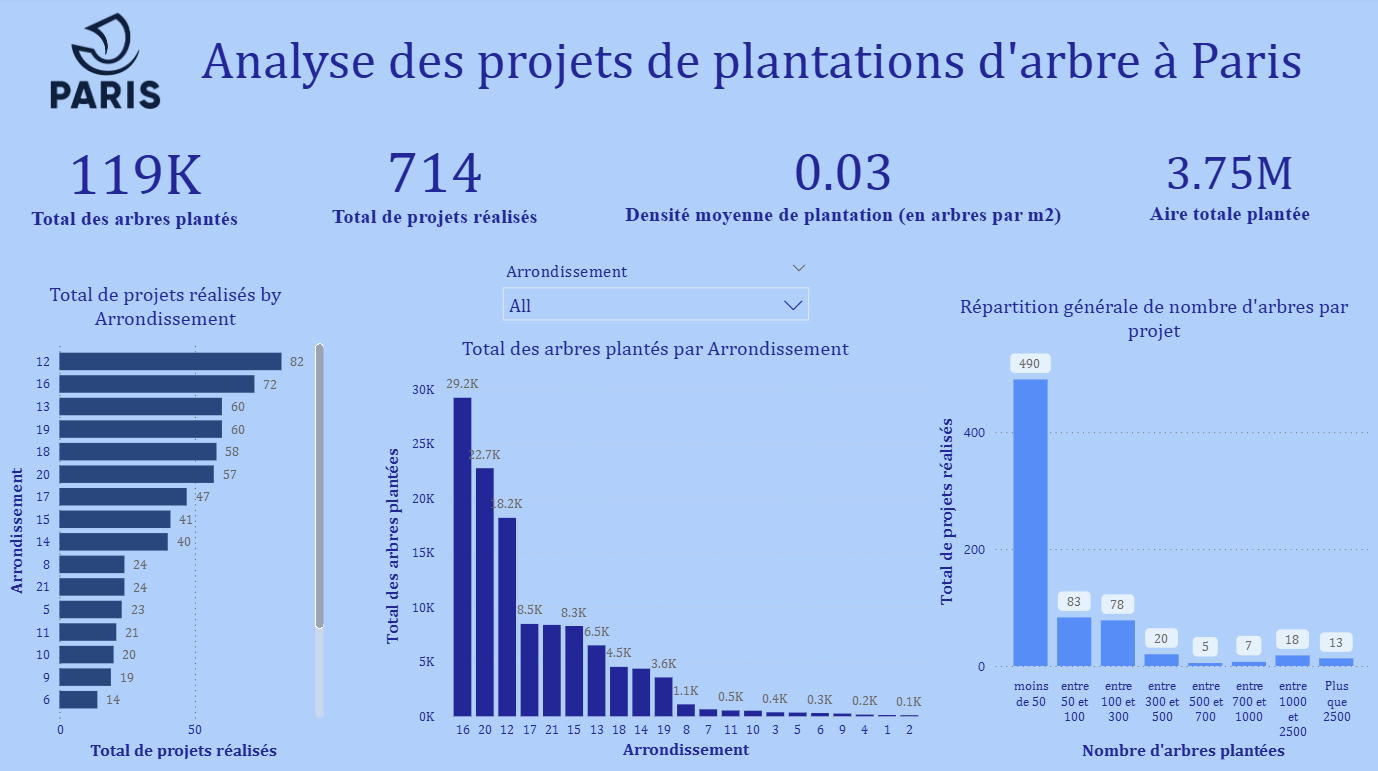

The page's visual inventory and layout, read from the dashboard file:
{"tool":"powerbi","page":{"name":"Page 1","canvas":[1280,720],"ordinal":0},"visuals":[{"type":"card","fields":{"Values":["arbres-plantes-par-projet.Total de projets réalisés"]},"box":[265,115.1,265,103],"z":0},{"type":"card","fields":{"Values":["arbres-plantes-par-projet.Aire totale plantée"]},"box":[1013,113.6,224.1,109],"z":1000},{"type":"card","fields":{"Values":["arbres-plantes-par-projet.Total des arbres plantés"]},"box":[0,116.6,245.3,103],"z":2000},{"type":"lineClusteredColumnComboChart","title":"Répartition générale de nombre d''arbres par projet","fields":{"Y":["arbres-plantes-par-projet.Total de projets réalisés"],"Category":["arbres-plantes-par-projet.tranches de nombre d'arbre"]},"box":[852.5,271,407.3,431.5],"z":3000},{"type":"clusteredBarChart","fields":{"Y":["arbres-plantes-par-projet.Total de projets réalisés"],"Category":["arbres-plantes-par-projet.Arrondissement"]},"box":[1.5,260.4,299.8,442.1],"z":4000},{"type":"clusteredColumnChart","title":"Total des arbres plantés par Arrondissement","fields":{"Y":["arbres-plantes-par-projet.Total des arbres plantés"],"Category":["arbres-plantes-par-projet.Arrondissement"]},"box":[345.2,310.4,507.3,392.2],"z":5000},{"type":"card","fields":{"Values":["arbres-plantes-par-projet.Densité moyenne de plantation (en arbres par m2)"]},"box":[530,113.6,483,106],"z":6000},{"type":"slicer","fields":{"Values":["arbres-plantes-par-projet.Arrondissement"]},"box":[449.7,236.2,299.8,68.1],"z":7000},{"type":"textbox","box":[175.6,24.2,1035.7,68.1],"z":8000},{"type":"image","box":[40.9,0,110.5,118.1],"z":9000}]}

Visuals, with their boxes in screenshot pixels (x1, y1, x2, y2), scaled from the page's 1280x720 canvas onto the 1378x771 screenshot:
card - arbres-plantes-par-projet.Total de projets réalisés: [285,123,571,234]
card - arbres-plantes-par-projet.Aire totale plantée: [1091,122,1332,238]
card - arbres-plantes-par-projet.Total des arbres plantés: [0,125,264,235]
"Répartition générale de nombre d''arbres par projet" lineClusteredColumnComboChart: [918,290,1356,752]
clusteredBarChart - arbres-plantes-par-projet.Total de projets réalisés x arbres-plantes-par-projet.Arrondissement: [2,279,324,752]
"Total des arbres plantés par Arrondissement" clusteredColumnChart: [372,332,918,752]
card - arbres-plantes-par-projet.Densité moyenne de plantation (en arbres par m2): [571,122,1091,235]
slicer - arbres-plantes-par-projet.Arrondissement: [484,253,807,326]
textbox: [189,26,1304,99]
image: [44,0,163,126]
